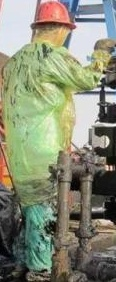boots: (25, 268, 51, 281), (107, 256, 116, 269)
hard-hat: (30, 0, 77, 30)
ppe-suit: (0, 38, 105, 275)
